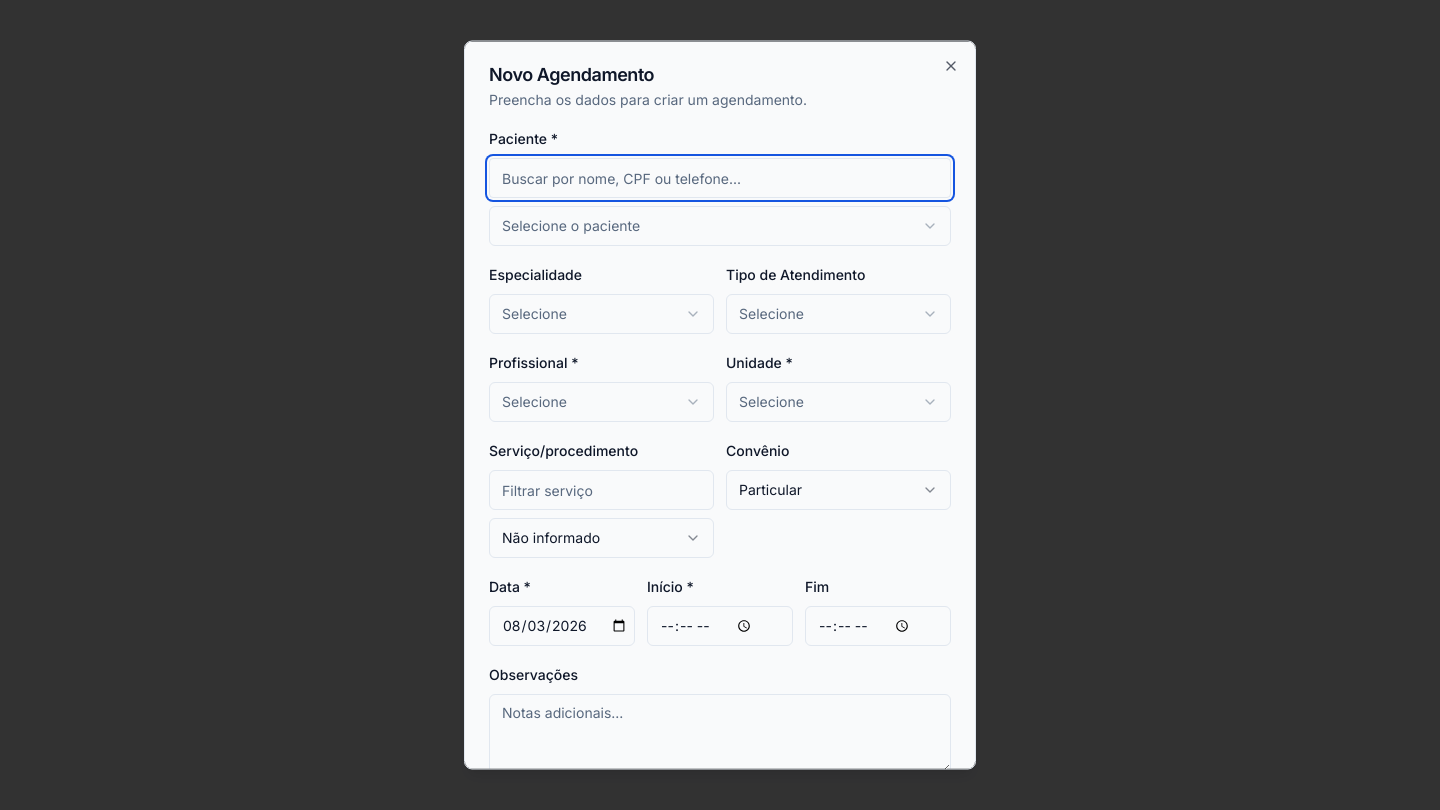
Test: NewAppointmentDialog › encerra busca travada e informa que o operador deve tentar novamente
This screenshot has width=1440, height=810.
Later steps or results of the test are not shown.
Type "Paciente QA" into the field named "Buscar paciente para agendamento" at [720, 178], box [489, 158, 951, 198]
Wait 8300 ms
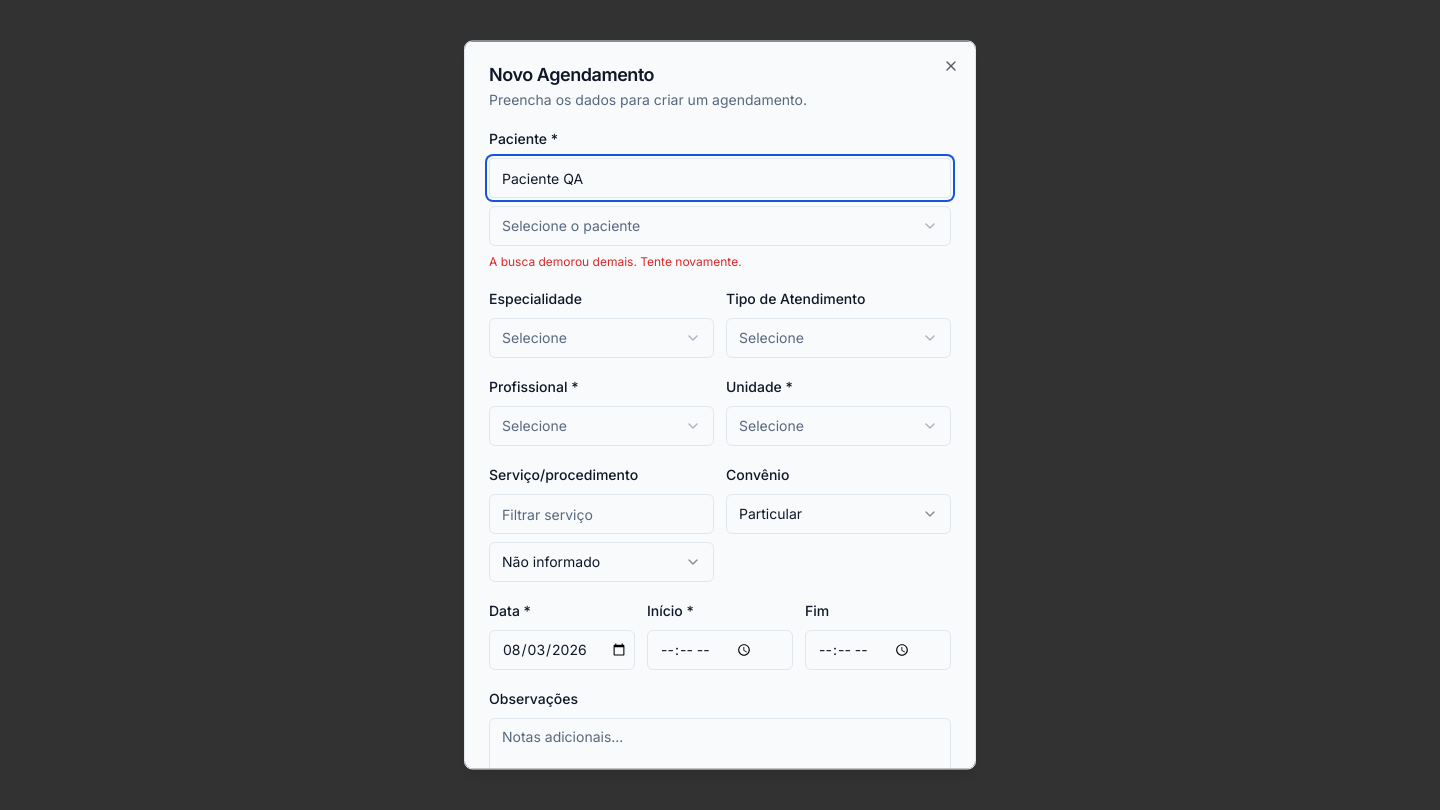
Expected: the dropdown named "Selecionar paciente" is enabled, [489, 206, 951, 246]
Expected: the message reads "A busca demorou demais. Tente novamente.", [489, 254, 742, 268]
